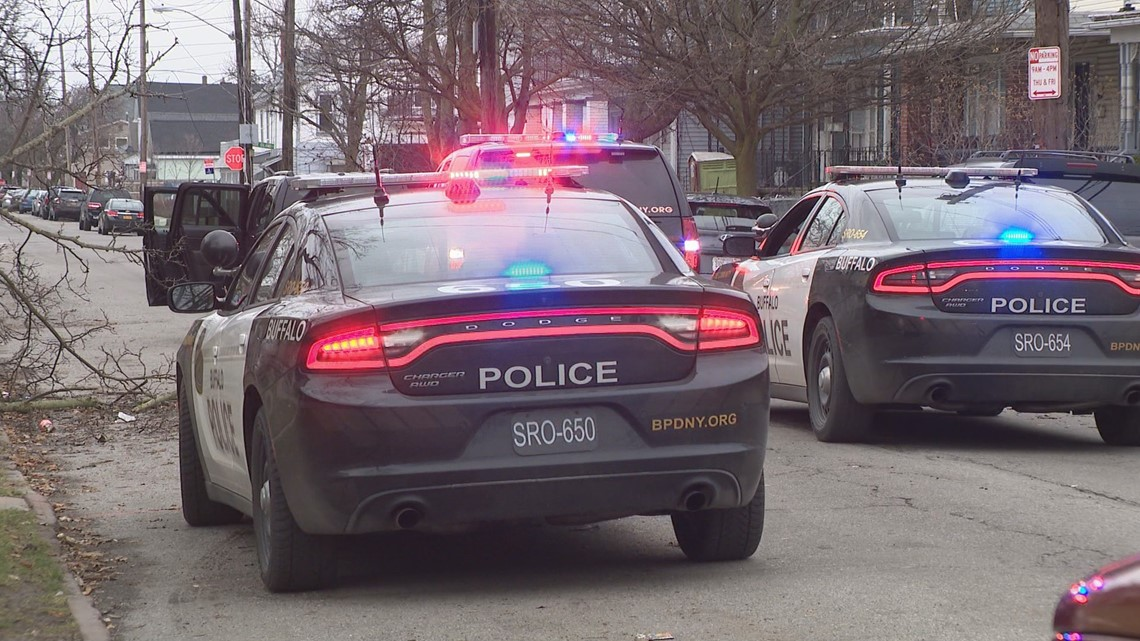special: (161, 185, 763, 600), (726, 163, 1140, 445)
